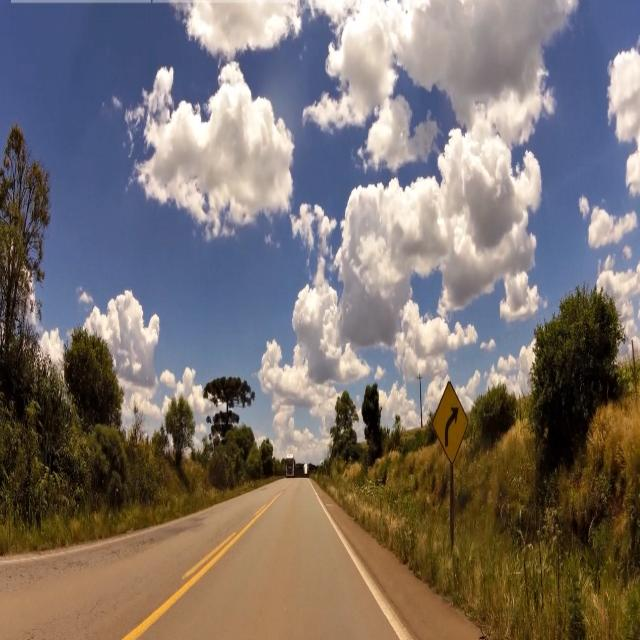A-2b: (431, 378, 468, 465)
